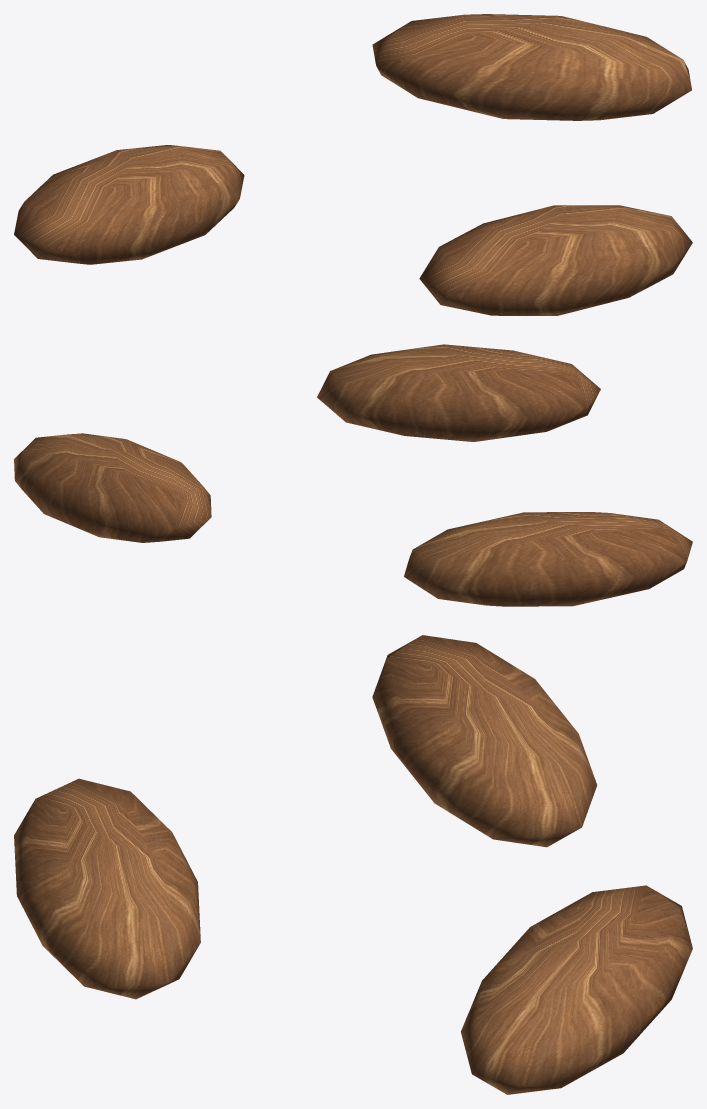
File: NP_Lavender_Seed.fbx
The picture shows the model from 3 angles, top to bottom: view 1: azimuth 30°, elevation 25°; view 2: azimuth 150°, elevation 25°; view 3: azimuth 270°, elevation 25°; orthographic projection. The views are drawn at different scales.
Parts seen in each view (by area): view 1: NP_Lavender_Seed; view 2: NP_Lavender_Seed; view 3: NP_Lavender_Seed.
Boxes of the visible parts, left/top/right/bottom form: NP_Lavender_Seed: left=14, top=14, right=692, bottom=315; NP_Lavender_Seed: left=14, top=344, right=692, bottom=606; NP_Lavender_Seed: left=14, top=635, right=692, bottom=1094.
Bounding box in the file's own units: 10.27 × 1.23 × 7.38.
